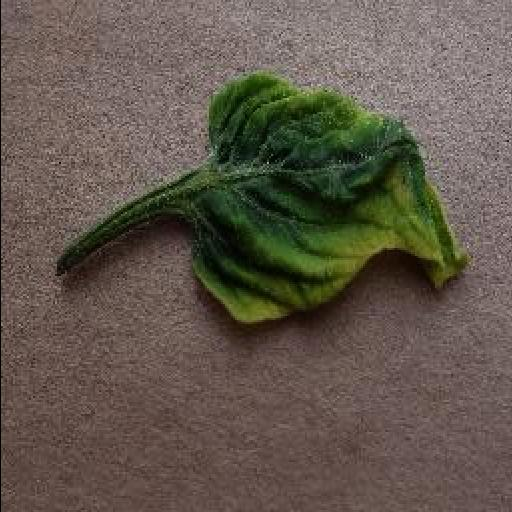disease_tomato: (186, 71, 472, 327)
